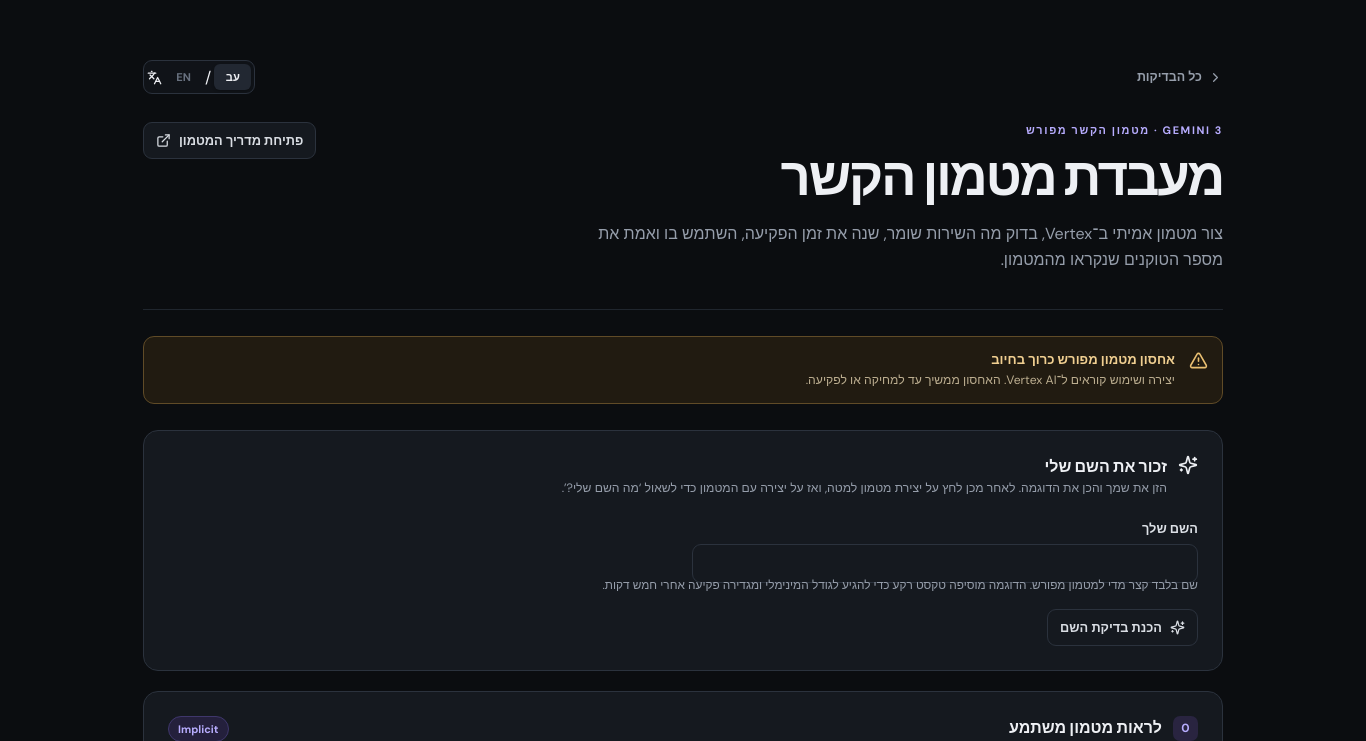
Test: creates a name cache and asks through its reference without resending the name (he)
expect the button "הכנת בדיקת השם" is disabled: met, box [1047, 609, 1198, 646]
Type "Test Person אבג" into the field labelled "השם שלך". click: (945, 563)
box: [692, 544, 1198, 583]
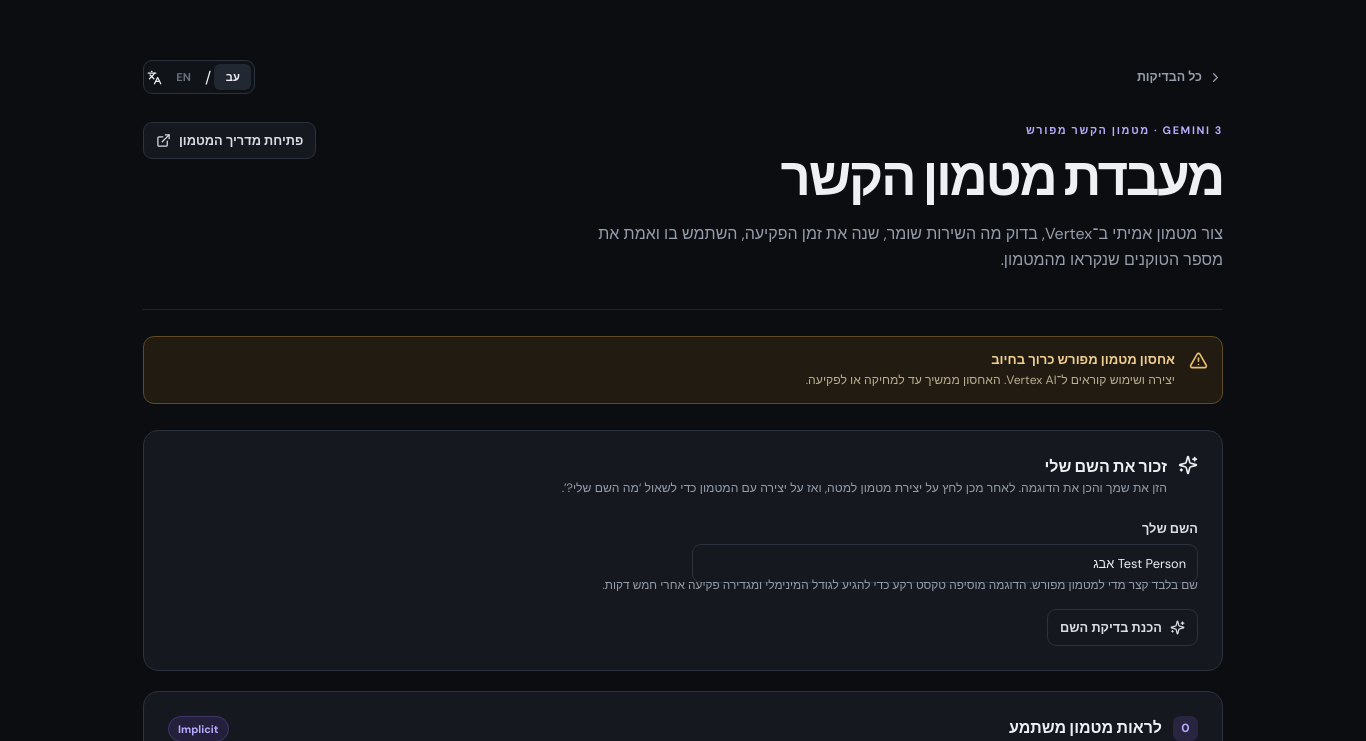
Click the button "הכנת בדיקת השם". click: (1123, 627)
box: [1047, 609, 1198, 646]
(page scrolled)
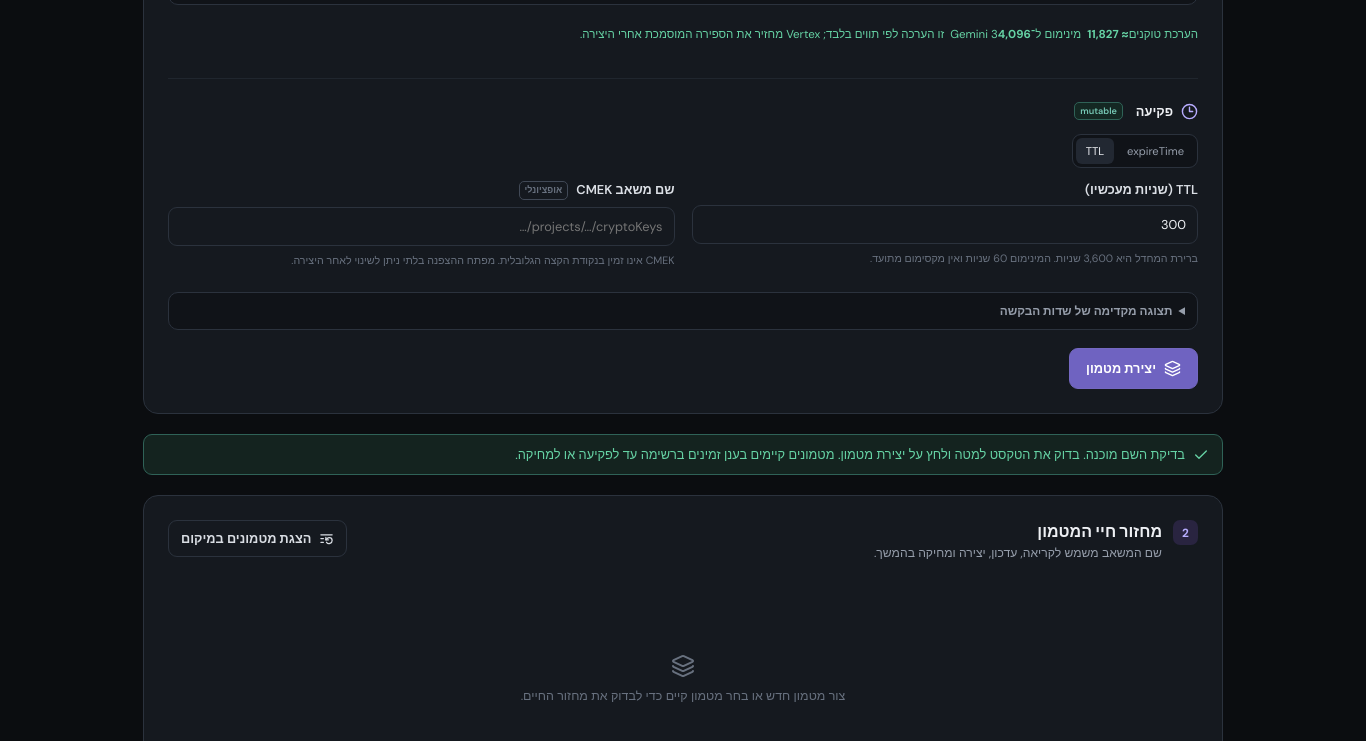
Click the button "יצירת מטמון". click: (1134, 369)
box: [1069, 348, 1198, 389]
(page scrolled)
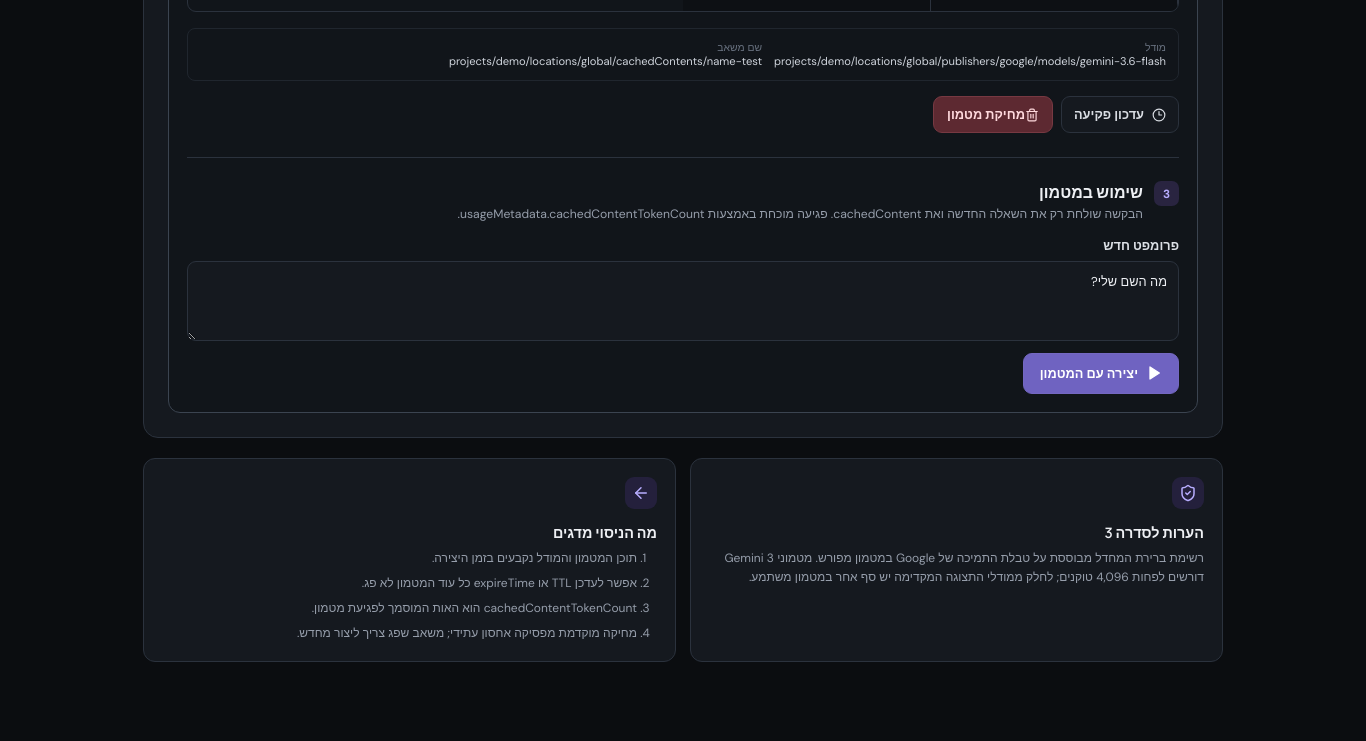
Click the button "יצירה עם המטמון". click: (1101, 373)
box: [1023, 353, 1179, 394]
(page scrolled)
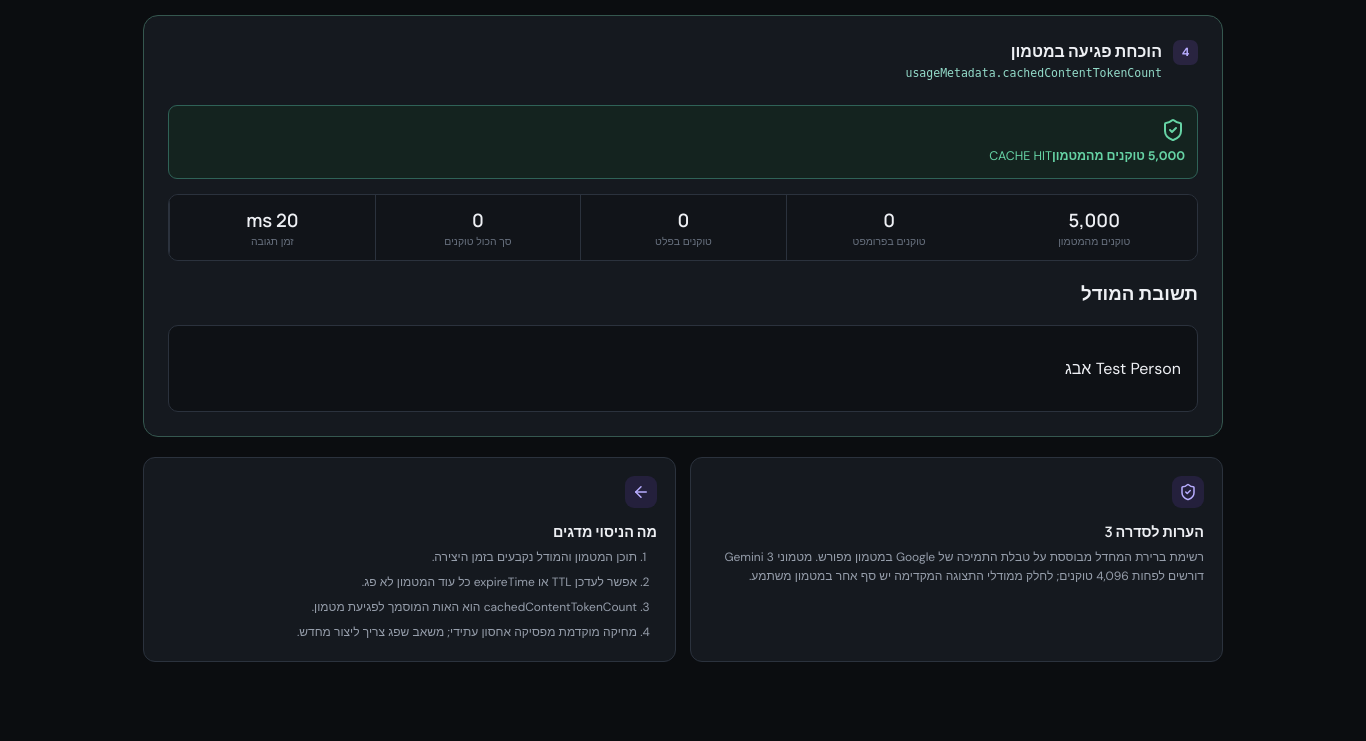
expect the text "CACHE HIT" is shown: met, box [989, 148, 1052, 164]
expect the text "Test Person אבג" is shown: met, box [1065, 358, 1181, 379]
